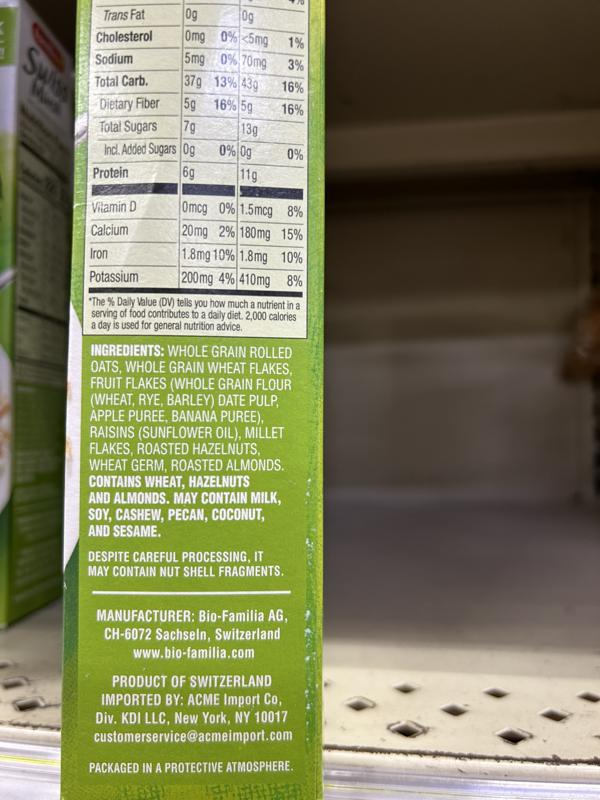ingredients: (87, 341, 293, 474)
